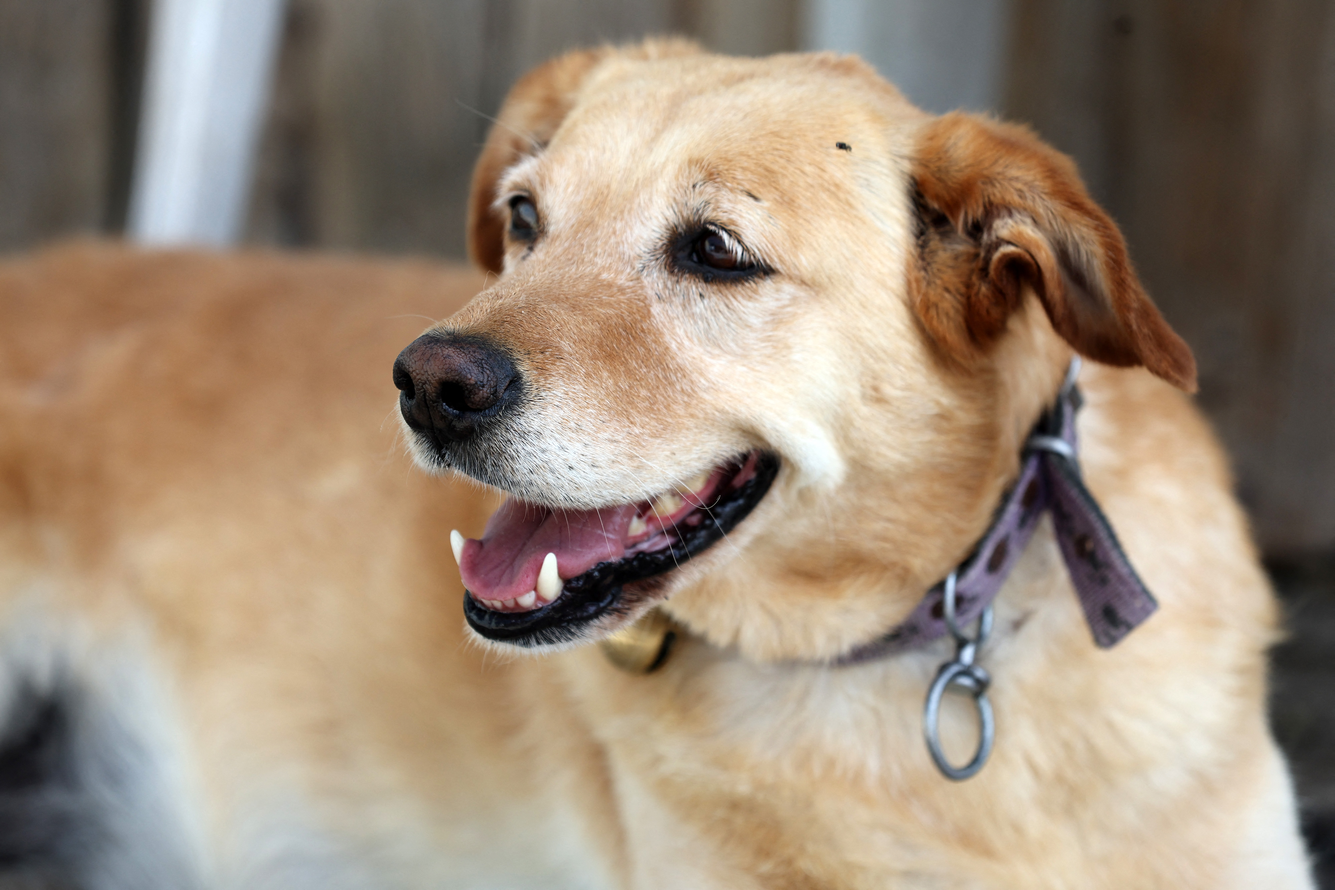Dog: (25, 29, 1322, 882)
